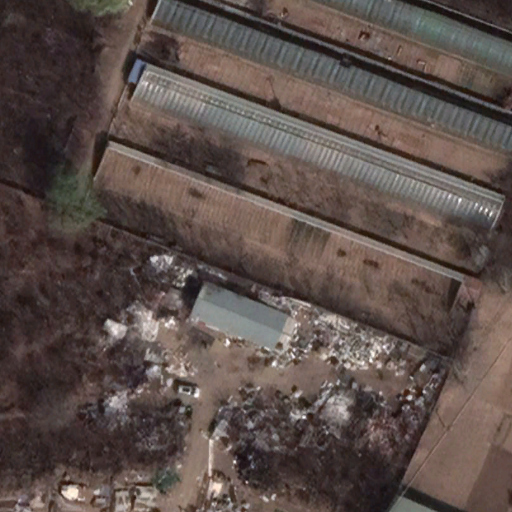msw: (284, 304, 396, 373)
